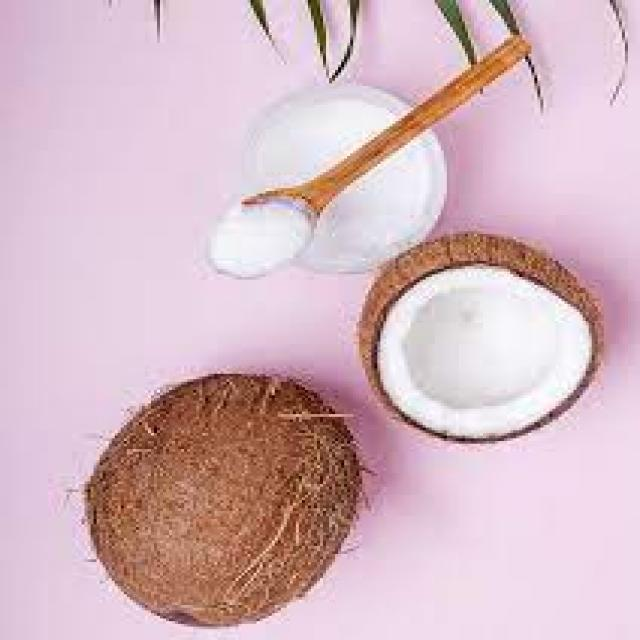coconut: (81, 363, 372, 632), (356, 226, 613, 454)
